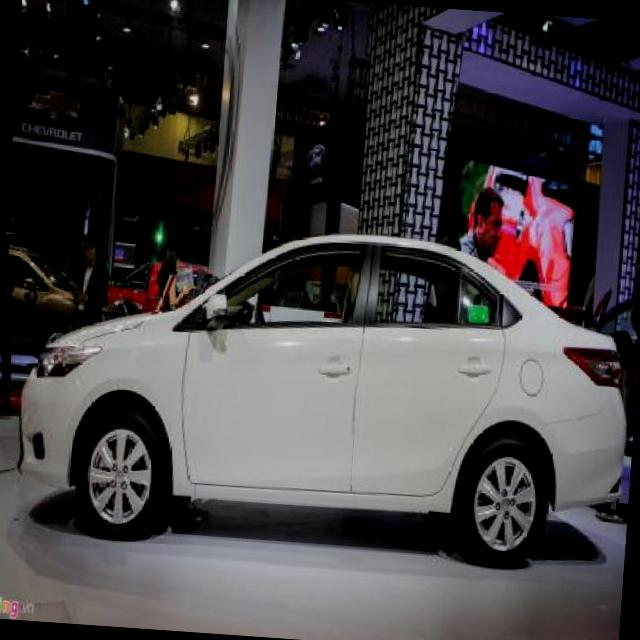ToyotaVios: (7, 207, 640, 575)
